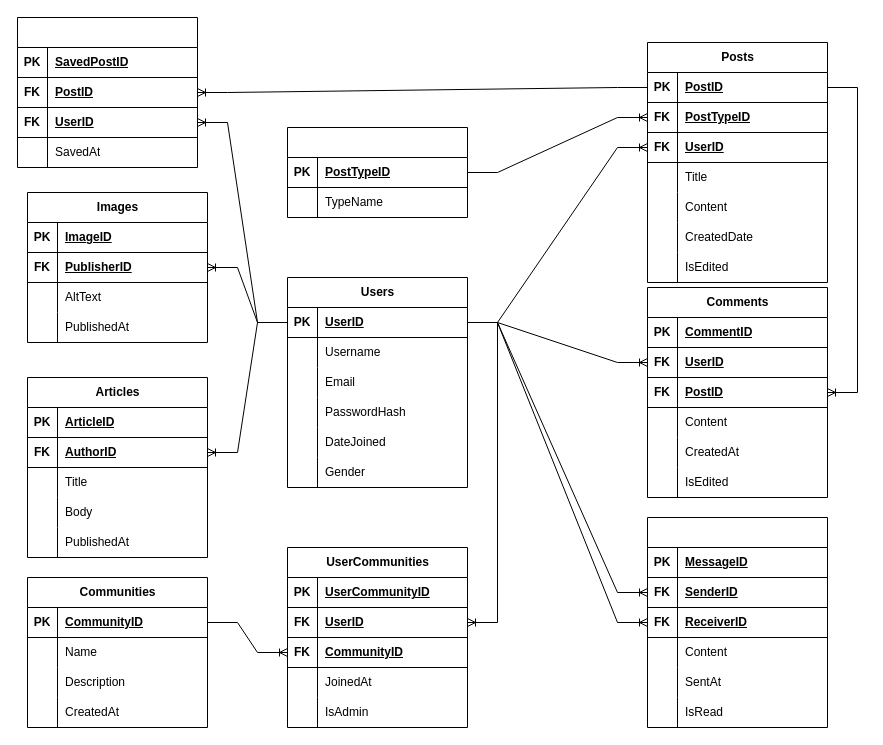
This 883x745 diagram has some shape labels left out. The shapes that lost their labels are listed below. From the top down, each one's box as (x1, y1, x2, y2) in pixels, then its label:
(16, 16, 198, 168): SavedPosts
(286, 126, 468, 218): PostTypes
(646, 516, 828, 728): Messages
